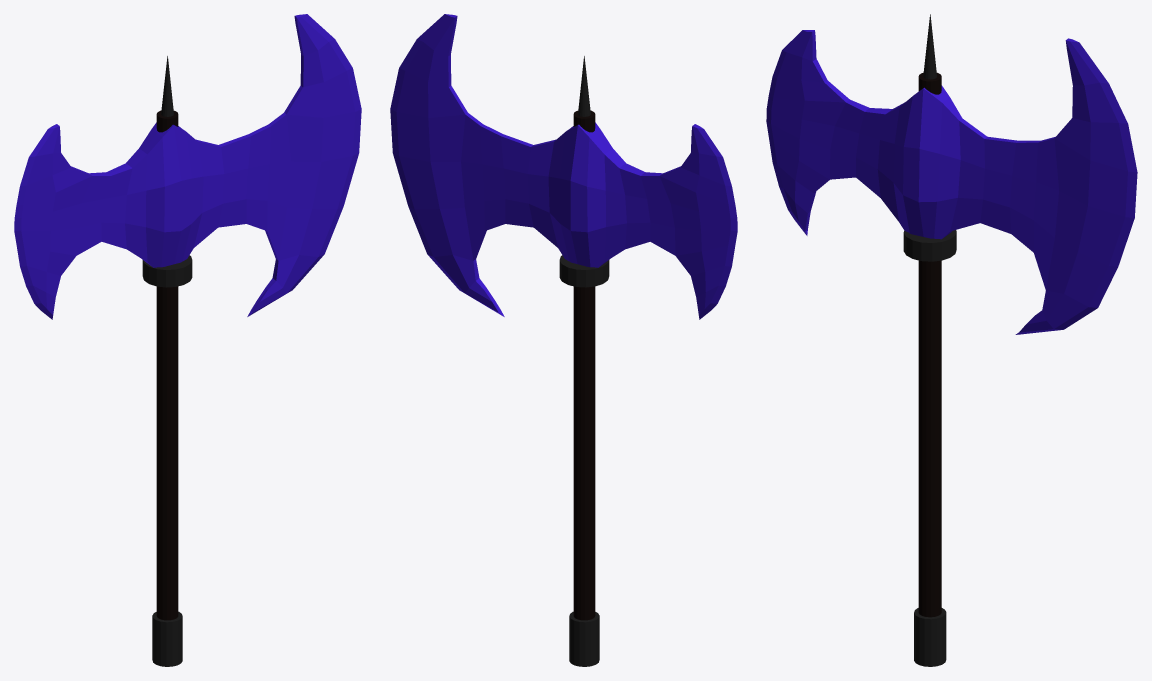
Rendered from axe.obj.
The picture shows the model from 3 angles, left to right: view 1: azimuth 30°, elevation 25°; view 2: azimuth 150°, elevation 25°; view 3: azimuth 330°, elevation 25°; orthographic projection. The views are drawn at different scales.
Parts seen in each view (by area): view 1: Cylinder.001; view 2: Cylinder.001; view 3: Cylinder.001.
Boxes of the visible parts, bbox=[...] form: Cylinder.001: bbox=[14, 14, 361, 666]; Cylinder.001: bbox=[390, 14, 737, 666]; Cylinder.001: bbox=[766, 14, 1137, 666].
Bounding box in the file's own units: 0.8426 × 1.42 × 0.1031.
